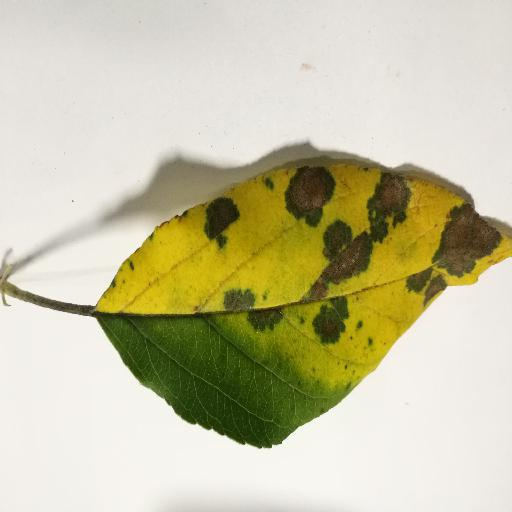Brown_Spot: (426, 200, 487, 281), (272, 167, 330, 221), (312, 233, 372, 284), (355, 173, 403, 234)
